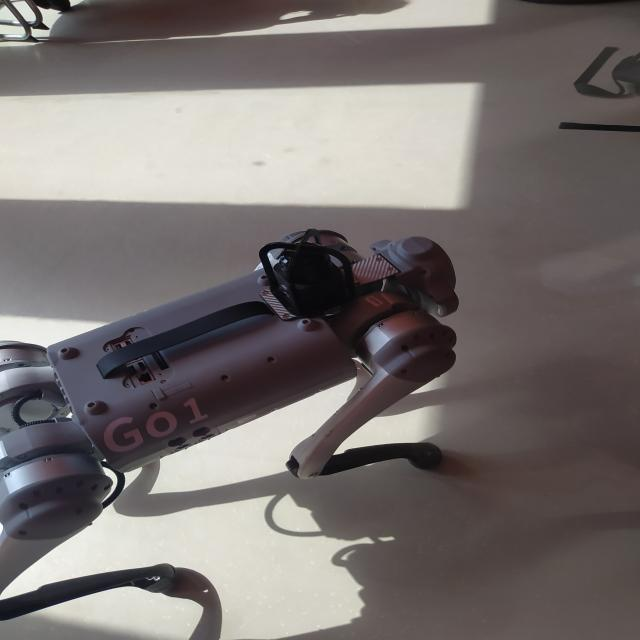unitree-go1-robot: (0, 233, 463, 614)
